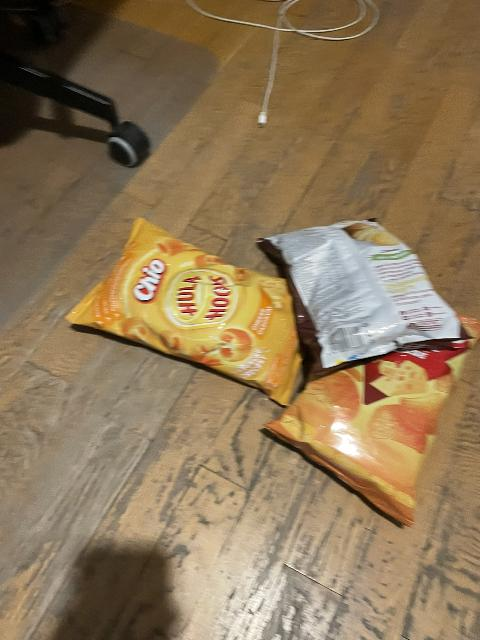Chio Cascaval 125g: (269, 326, 480, 529)
Chio Hula Hoops Cheese 70g: (66, 217, 298, 399)
Lays Beef Grilled Ribs 125g: (265, 218, 476, 371)
